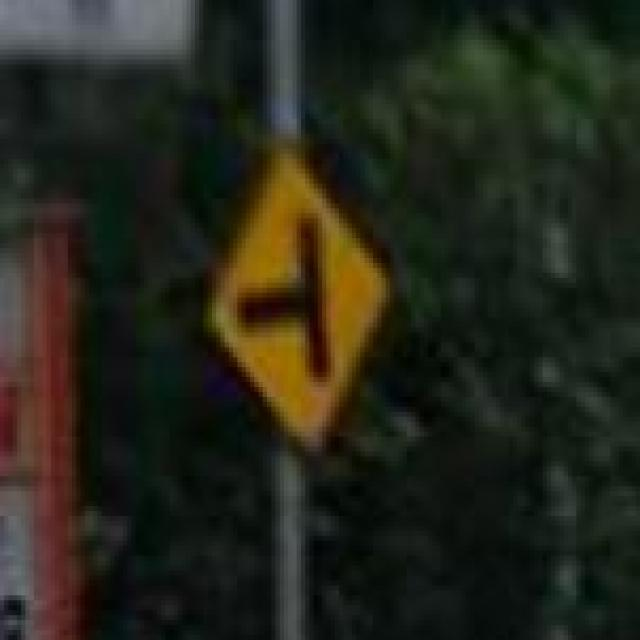traffic sign: (216, 154, 394, 427)
